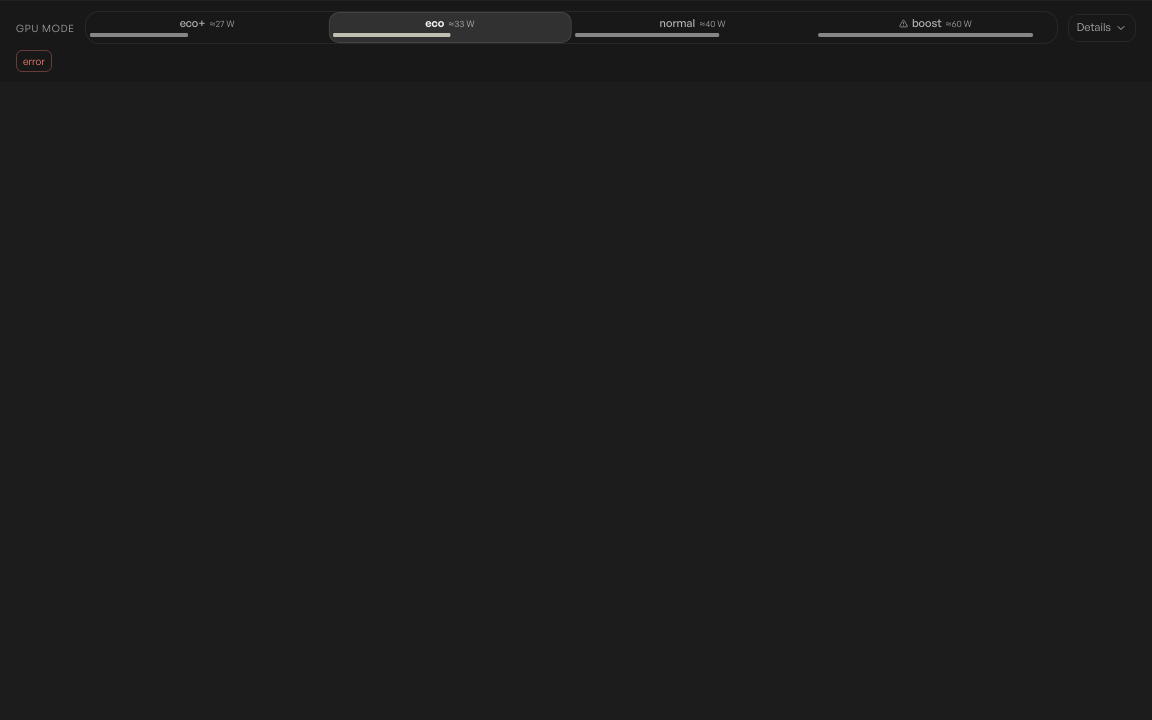
Scenario: DeviceModeStrip › passes the box's own error through instead of swallowing it
Click the button with test id "device-toggle-detail" at point(1102, 28), box x1=1068 y1=14 x2=1136 y2=42
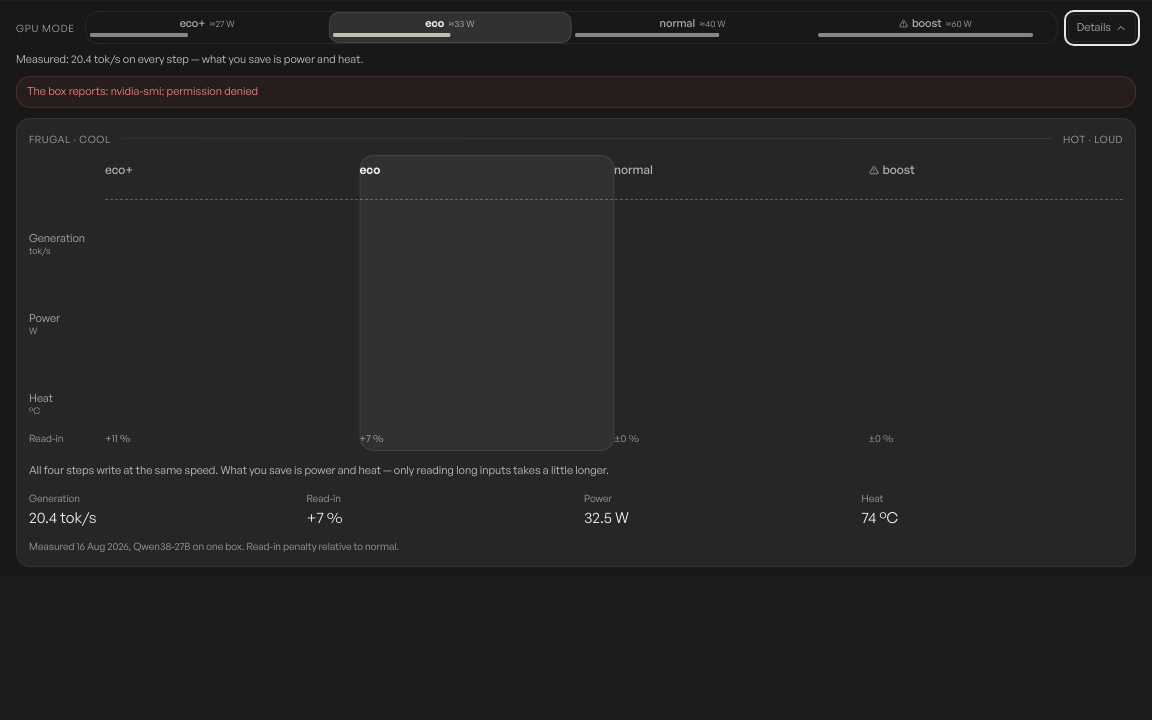
Expected: the element with test id "device-detail" is shown
Expected: the text with test id "device-last-error" reads "The box reports: nvidia-smi: permission denied", x1=27 y1=84 x2=258 y2=98
